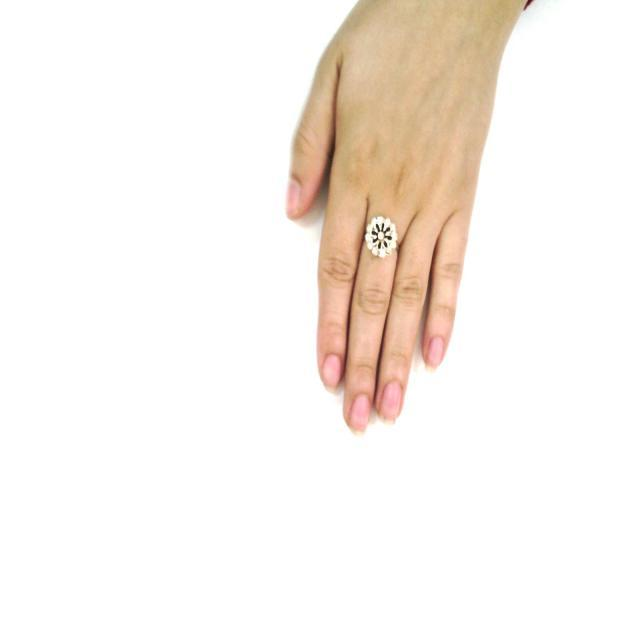Fingernail: (381, 381, 401, 422), (350, 394, 370, 434), (323, 355, 341, 391), (427, 338, 443, 369), (287, 178, 300, 216)
